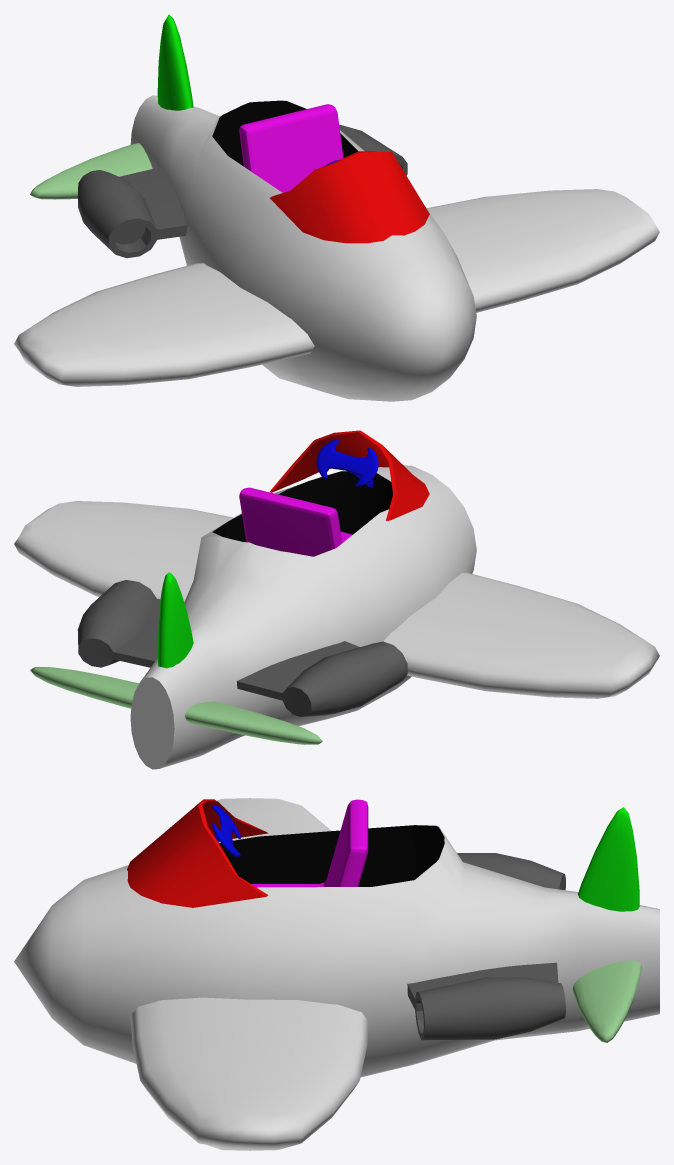
Rendered from Airline.fbx.
3 views of the same model, one above another, from view 1: azimuth 30°, elevation 25°; view 2: azimuth 150°, elevation 25°; view 3: azimuth 270°, elevation 25° (orthographic). The views are drawn at different scales.
Visible parts, largest first — view 1: air1; view 2: air1; view 3: air1.
Boxes of the visible parts, left/top/right/bottom form: air1: left=14, top=14, right=659, bottom=401; air1: left=14, top=430, right=659, bottom=769; air1: left=14, top=798, right=659, bottom=1150.
Bounding box in the file's own units: 792 × 308 × 655.
